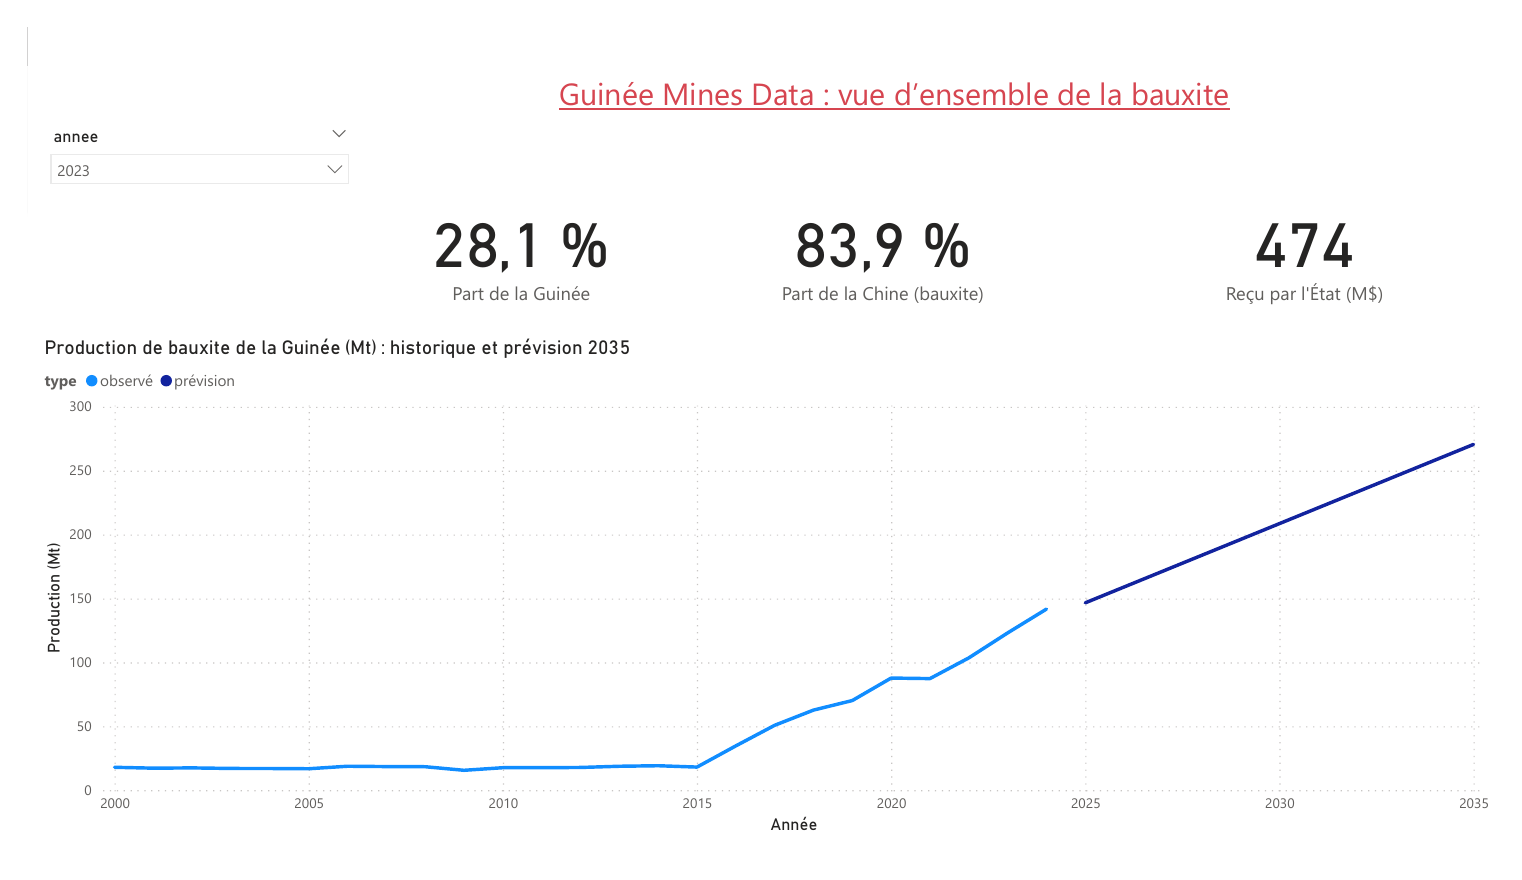

The dashboard page shown, as its layout file describes it:
{"tool":"powerbi","page":{"name":"Vue d'ensemble","canvas":[1280,720],"ordinal":0},"visuals":[{"type":"slicer","fields":{"Values":["annees.annee"]},"box":[10.1,82.3,280.5,115.9],"z":0},{"type":"card","fields":{"Values":["bauxite_monde.Part de la Guinée"]},"box":[290.6,141.1,280.5,105.8],"z":1000},{"type":"card","fields":{"Values":["clients.Part de la Chine (bauxite)"]},"box":[606.4,141.1,280.5,105.8],"z":2000},{"type":"card","fields":{"Values":["paiements_itie.Reçu par l'État (M$)"]},"box":[949.1,141.1,330.9,105.8],"z":3000},{"type":"lineChart","title":"Production de bauxite de la Guinée (Mt) : historique et prévision 2035","fields":{"Category":["bauxite_production.annee"],"Y":["Sum(bauxite_production.production_mt)"],"Series":["bauxite_production.type"]},"box":[10.1,268.8,1269.9,440.1],"z":3001},{"type":"textbox","box":[458.6,33.6,710.6,89],"z":3002}]}

Visuals, with their boxes in screenshot pixels (x1, y1, x2, y2), scaled from the page's 1280x720 canvas onto the 1522x880 screenshot:
slicer - annees.annee: 12,101,346,242
card - bauxite_monde.Part de la Guinée: 346,172,679,302
card - clients.Part de la Chine (bauxite): 721,172,1055,302
card - paiements_itie.Reçu par l'État (M$): 1129,172,1521,302
"Production de bauxite de la Guinée (Mt) : historique et prévision 2035" lineChart: 12,329,1521,866
textbox: 545,41,1390,150
